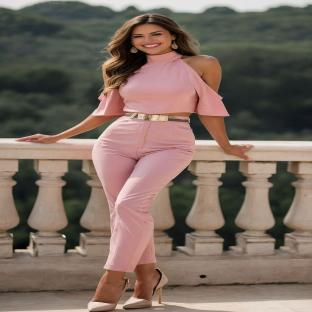Human: (21, 14, 253, 312)
